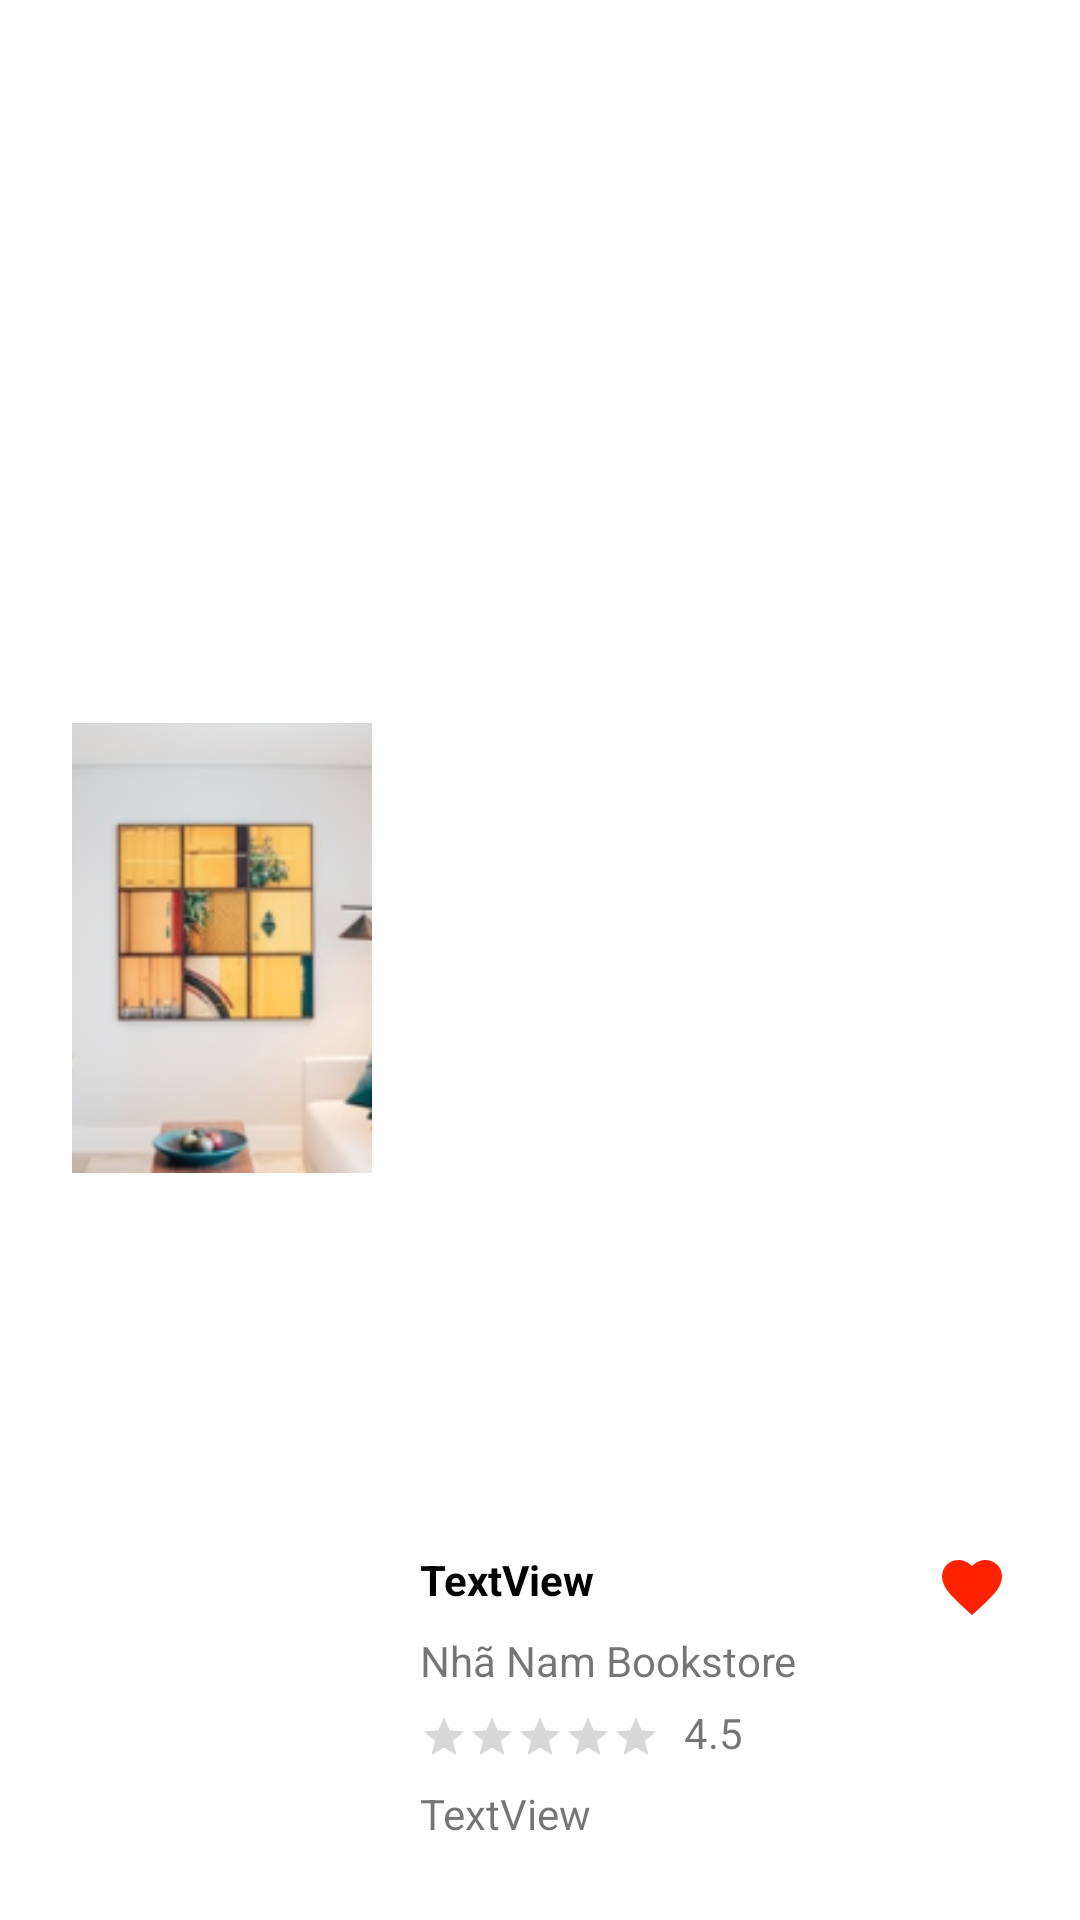

Named icons in this screenshot (1080*1920) and their centers, (x,y):
favorite: (972,1587)
